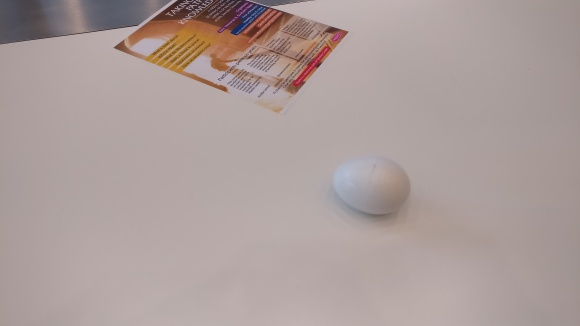egg: (333, 156, 410, 215)
